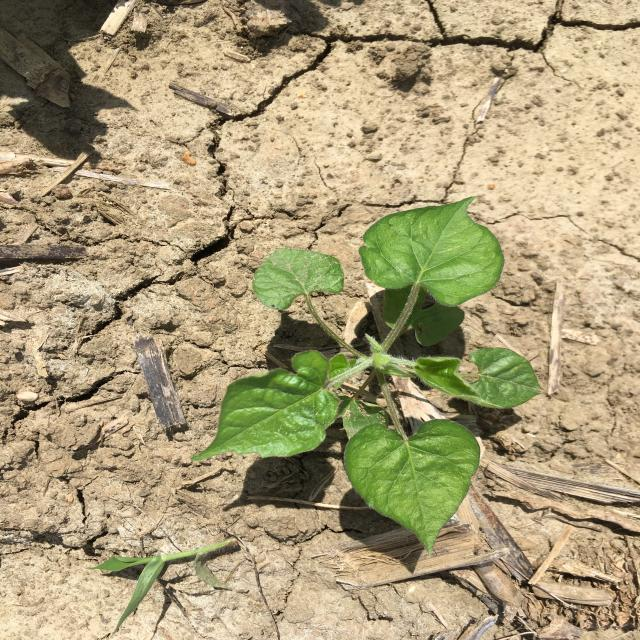MorningGlory: (190, 196, 546, 554)
